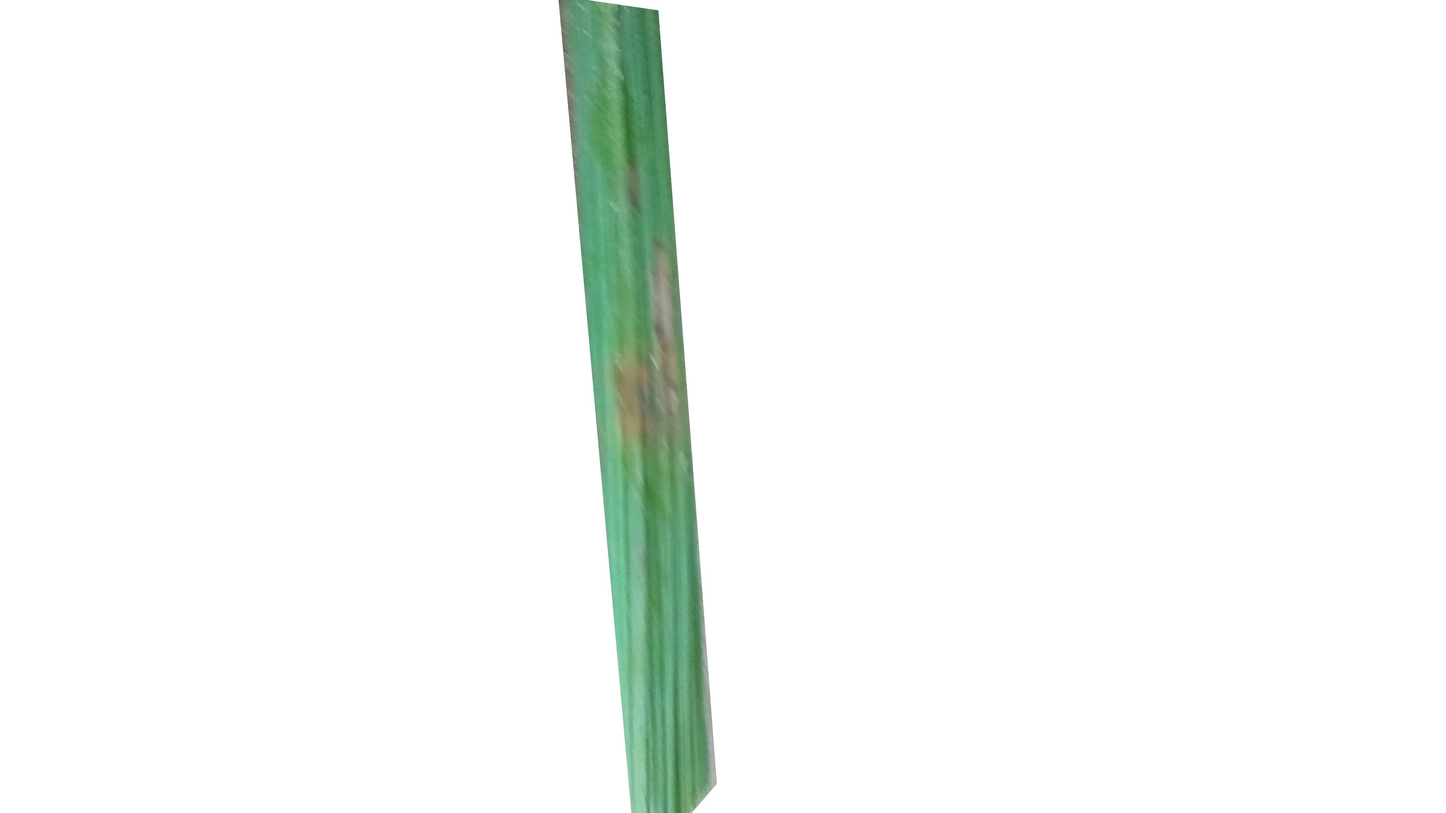Rice blast: (592, 244, 695, 474)
